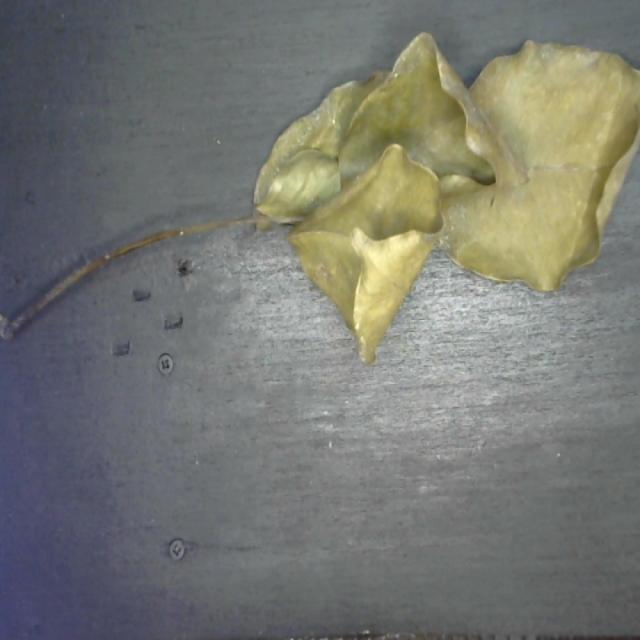biodegradable: (248, 26, 640, 368)
